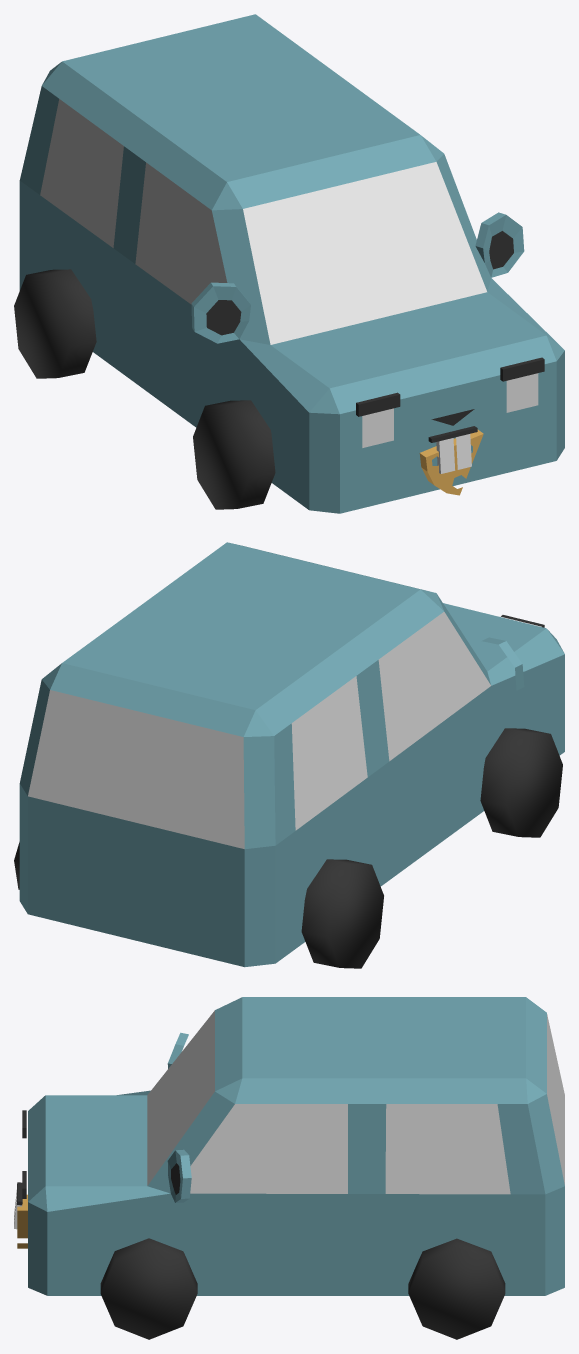
File: car01.gltf
3 views of the same model, one above another, from view 1: azimuth 30°, elevation 25°; view 2: azimuth 150°, elevation 25°; view 3: azimuth 270°, elevation 25° (orthographic). The views are drawn at different scales.
Parts seen in each view (by area): view 1: Cube, 平面; view 2: Cube; view 3: Cube, 平面.
Part boxes in pixels (box(x1,y1,x2,y2)): Cube: box(14, 14, 564, 513); 平面: box(419, 429, 483, 495); Cube: box(14, 542, 564, 968); Cube: box(14, 997, 564, 1339); 平面: box(17, 1194, 27, 1248).
Bounding box in the file's own units: 275 × 217 × 462.
